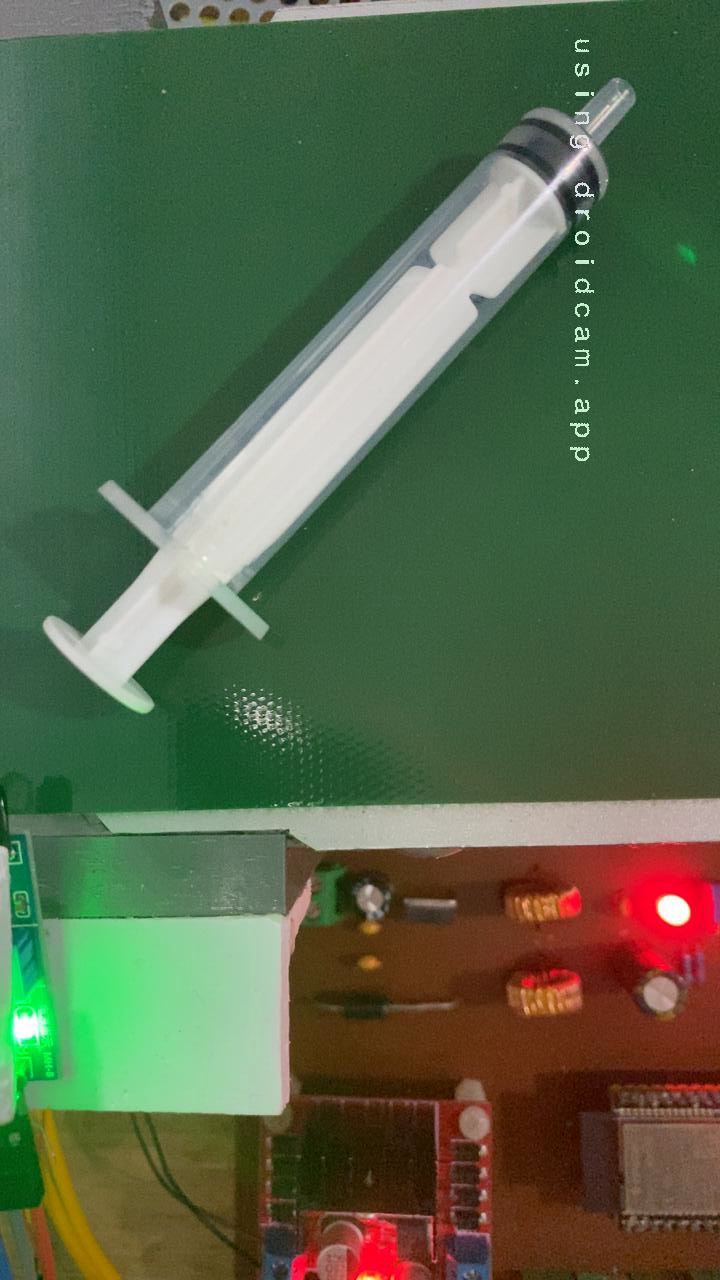syringe: (36, 72, 641, 709)
